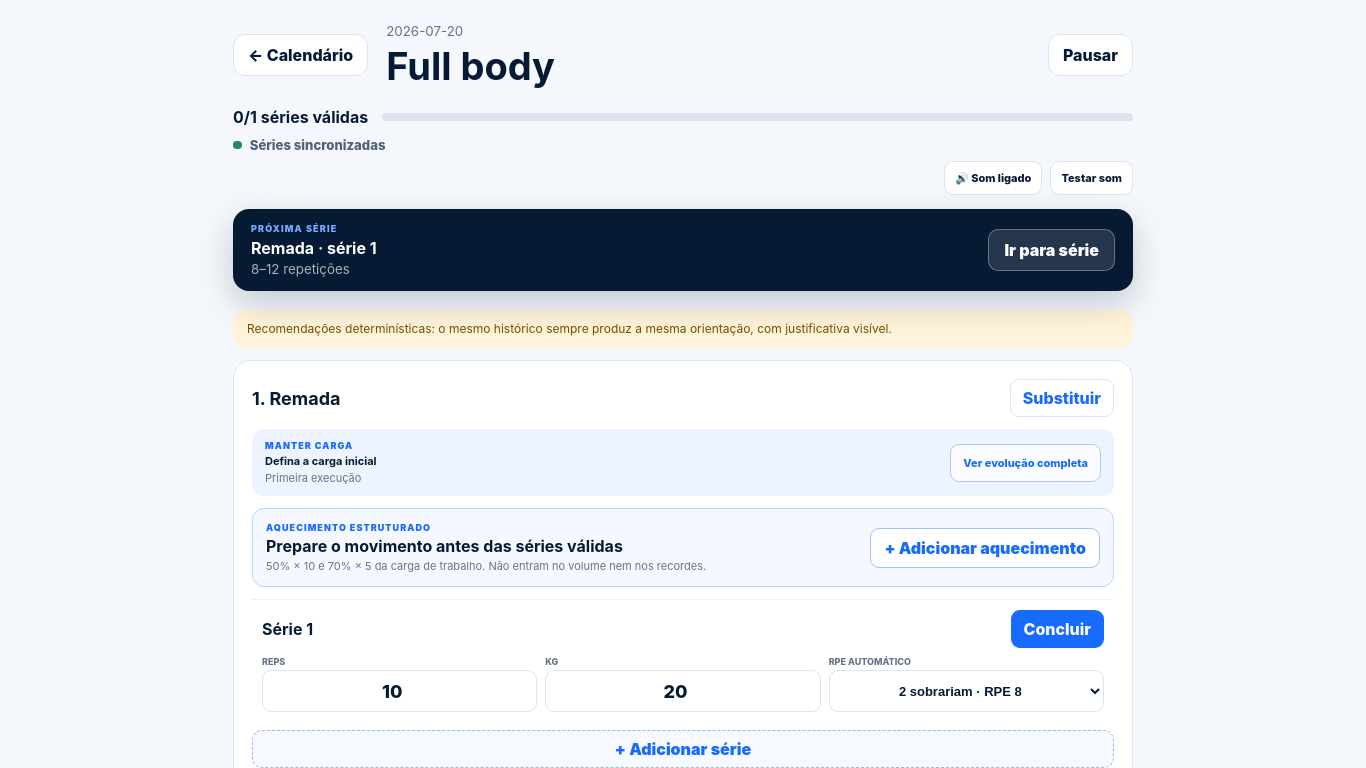
it: percurso principal do treino › celebra uma meta alcançada antes de voltar ao painel
The image size is (1366, 768).
Click the button "Concluir" at {"x": 1057, "y": 629}, box [1011,610,1104,648]
(page scrolled)
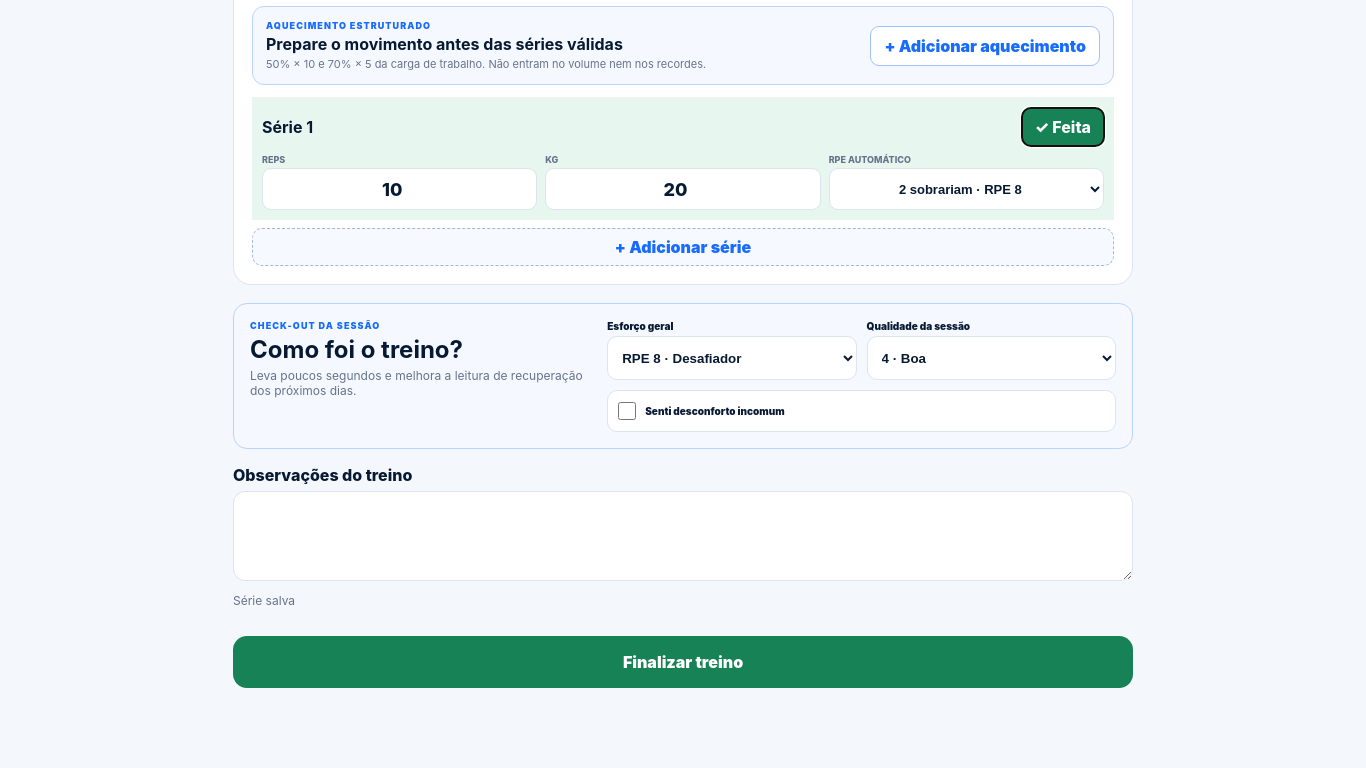
Click the button "Finalizar treino" at {"x": 683, "y": 662}, box [233,636,1133,688]
(page scrolled)
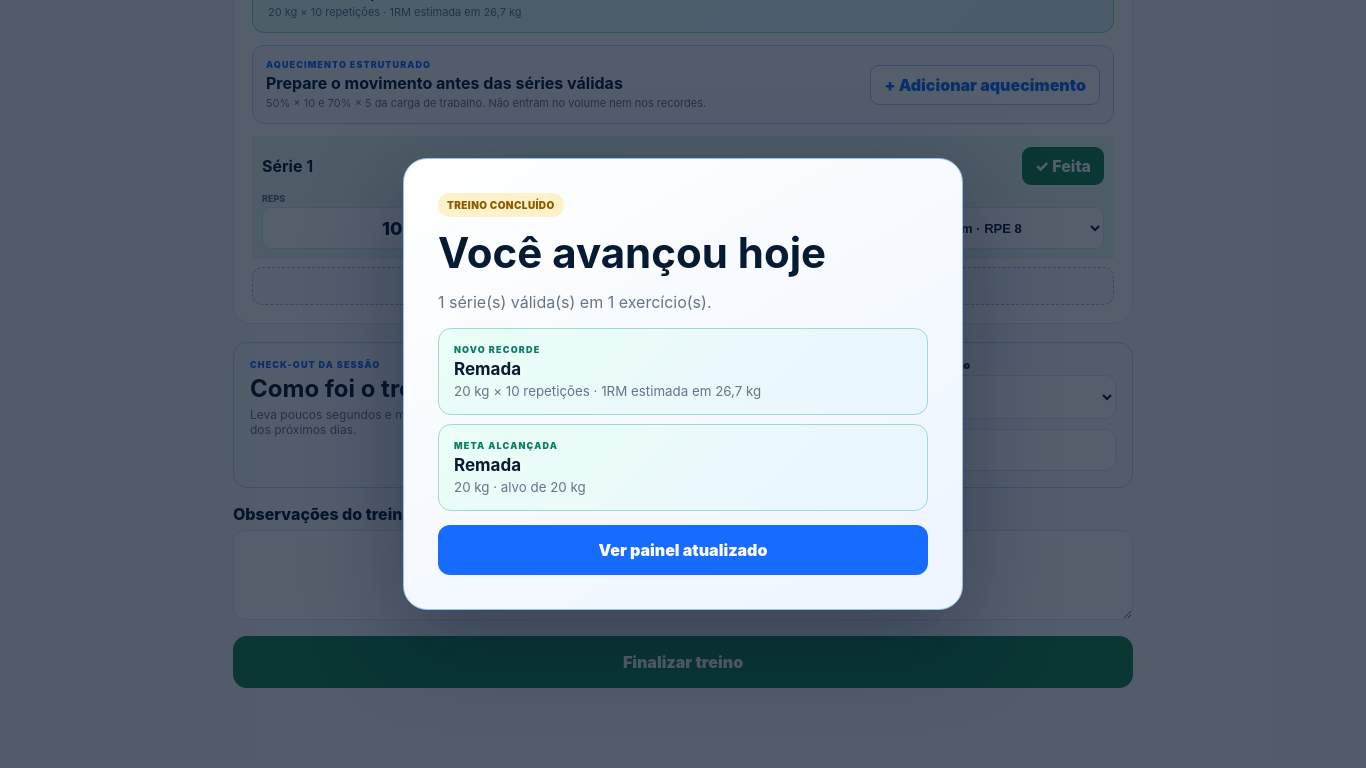
Check: the text "META ALCANÇADA" is shown, box [454,440,558,450]
Check: the text "20 kg · alvo de 20 kg" is shown, box [454,478,586,494]
